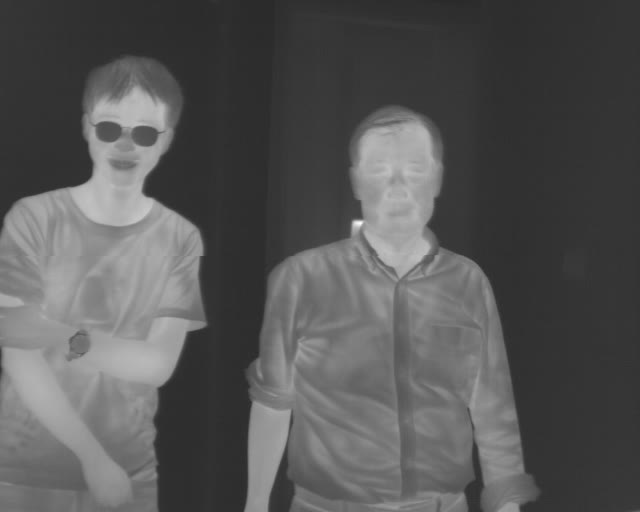face: (348, 103, 444, 248), (81, 56, 181, 190)
